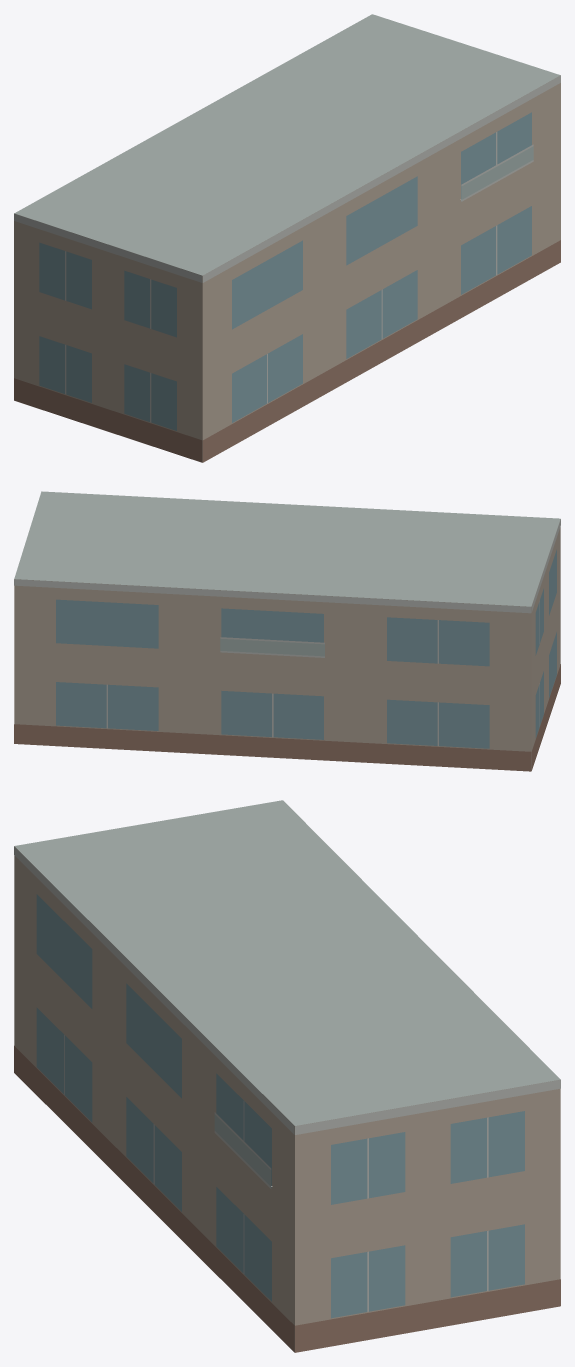
File: survey-upis-32700131.glb
3 views of the same model, one above another, from view 1: azimuth 30°, elevation 25°; view 2: azimuth 150°, elevation 25°; view 3: azimuth 270°, elevation 25° (orthographic). The views are drawn at different scales.
Parts seen in each view (by area): view 1: survey-upis-32700131.tmp; view 2: survey-upis-32700131.tmp; view 3: survey-upis-32700131.tmp.
Boxes of the visible parts, x1=… form: survey-upis-32700131.tmp: x1=14, y1=14, x2=560, y2=462; survey-upis-32700131.tmp: x1=14, y1=491, x2=560, y2=771; survey-upis-32700131.tmp: x1=14, y1=800, x2=560, y2=1352.
Size of the model in its own units: 18.83 by 6.1 by 13.34.
